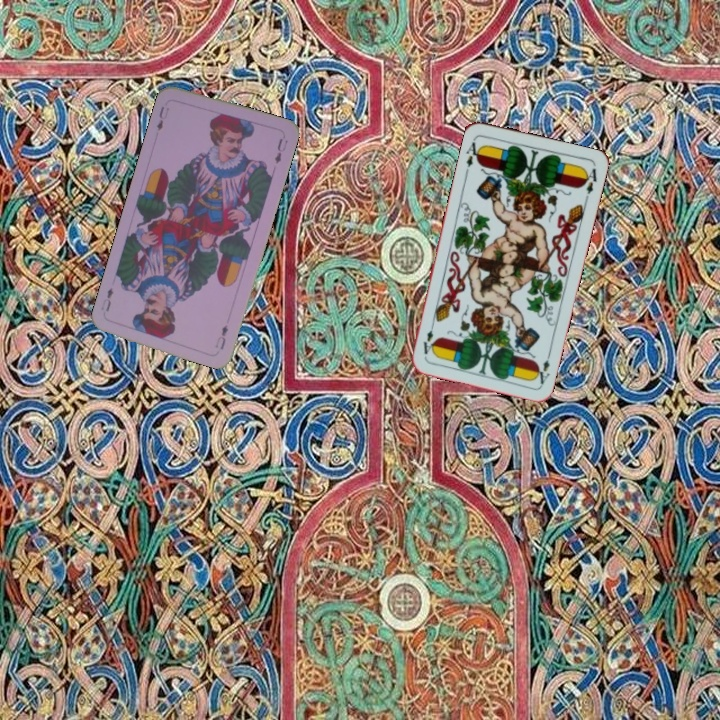EA: (461, 134, 484, 175), (531, 347, 553, 387)
EU: (152, 102, 172, 133), (211, 321, 231, 352)
